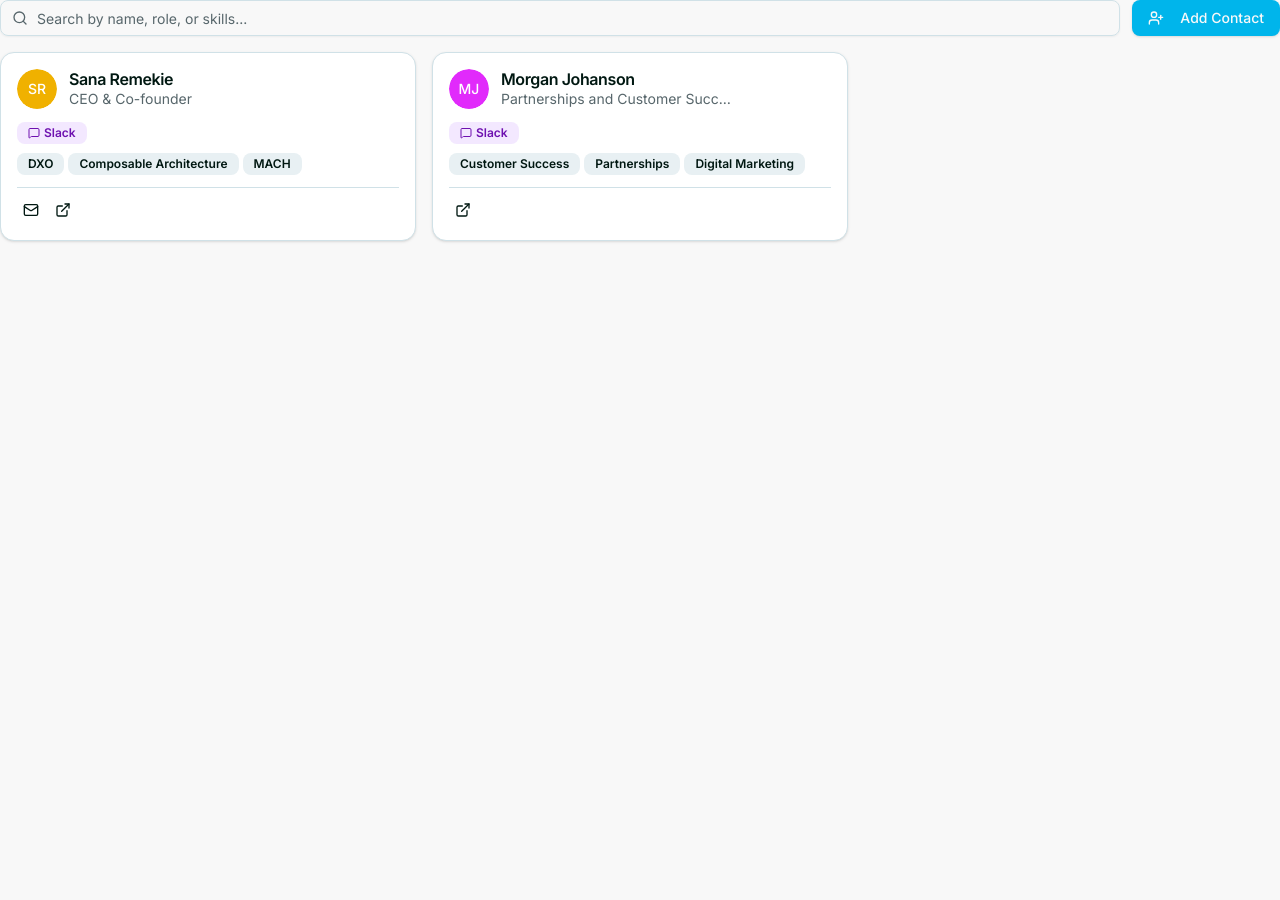
Test: Contacts Page › opens add dialog when Add Contact is clicked
Click the button "Add Contact". click: click(1206, 18)
box: [1132,0,1279,36]
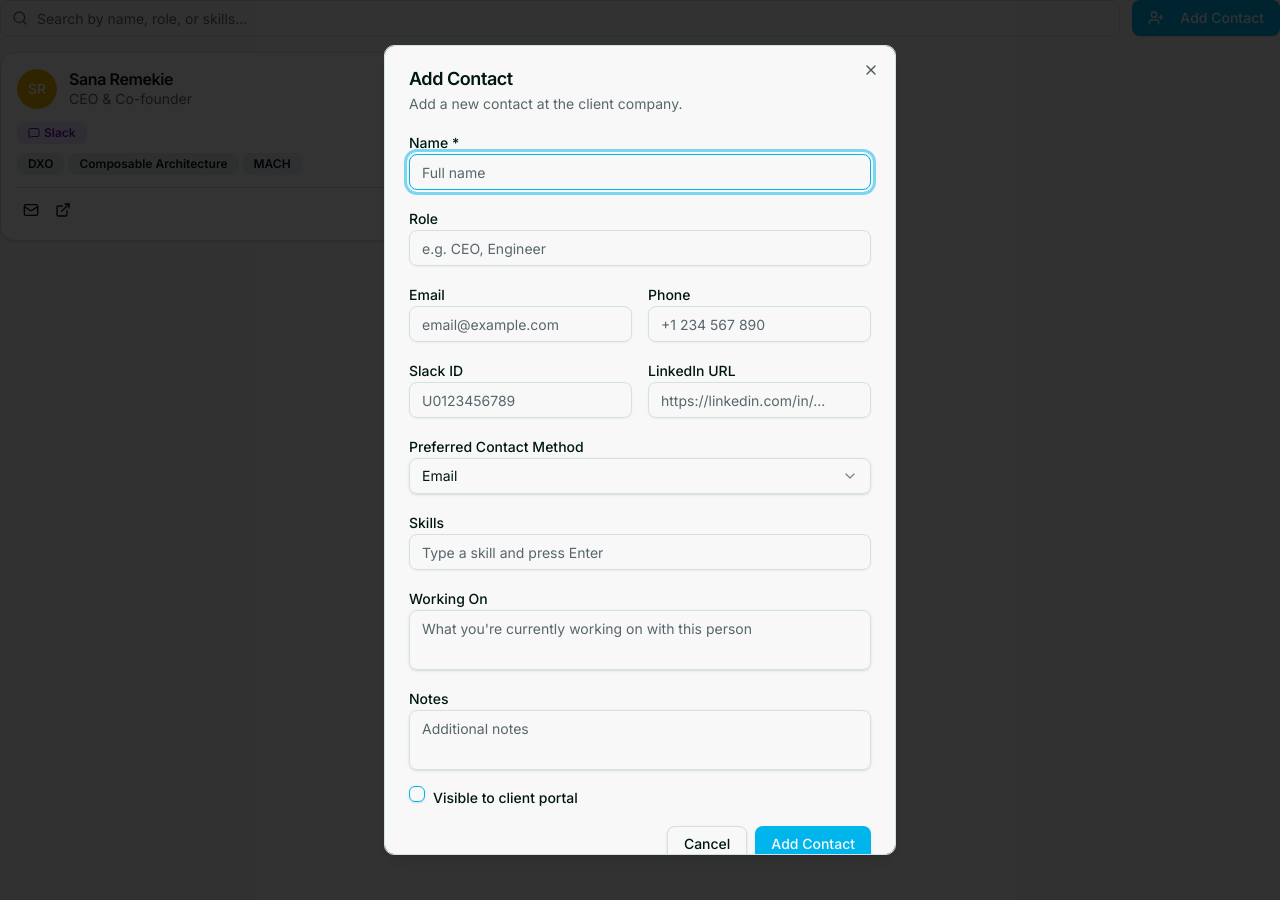
expect the text "Add a new contact at the client company." is shown: met, box [409,95,682,112]
